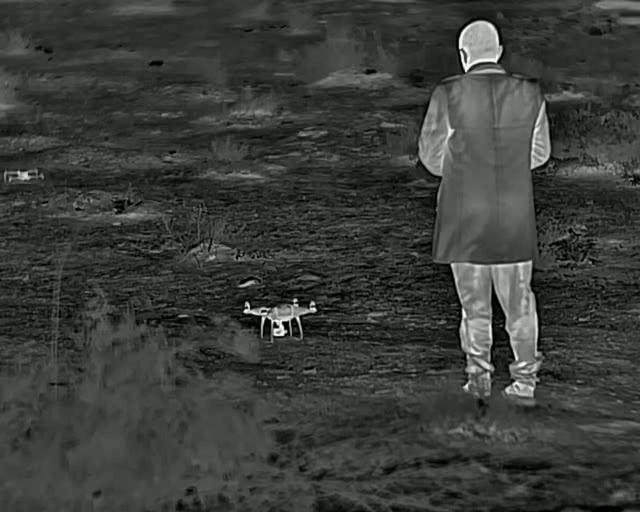DJI-Phantom: (241, 296, 320, 342)
